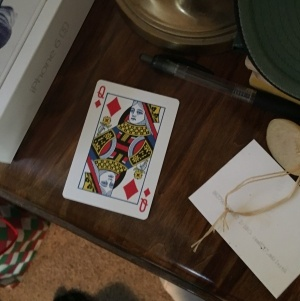card: (63, 79, 178, 222)
